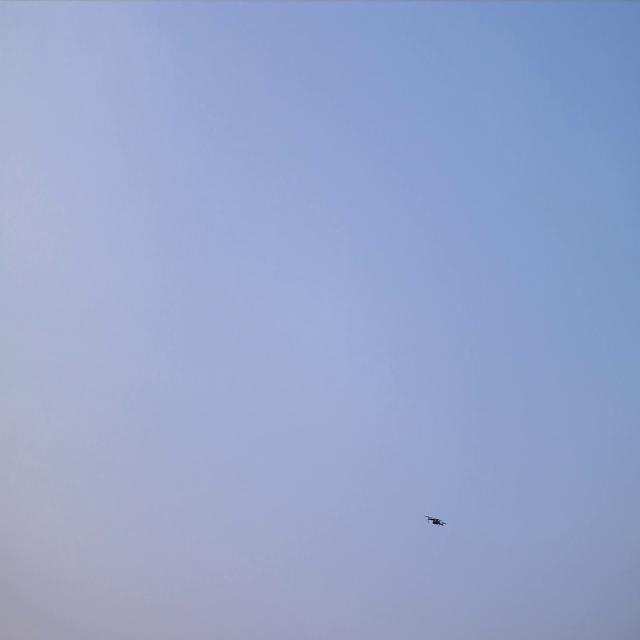UAV: (428, 516, 444, 526)
